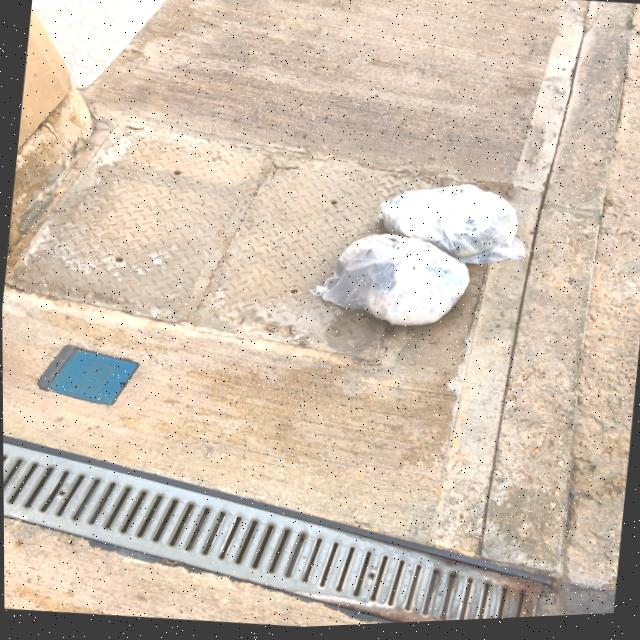Organic Waste -White Bag-: (303, 229, 481, 347), (378, 176, 533, 275)
